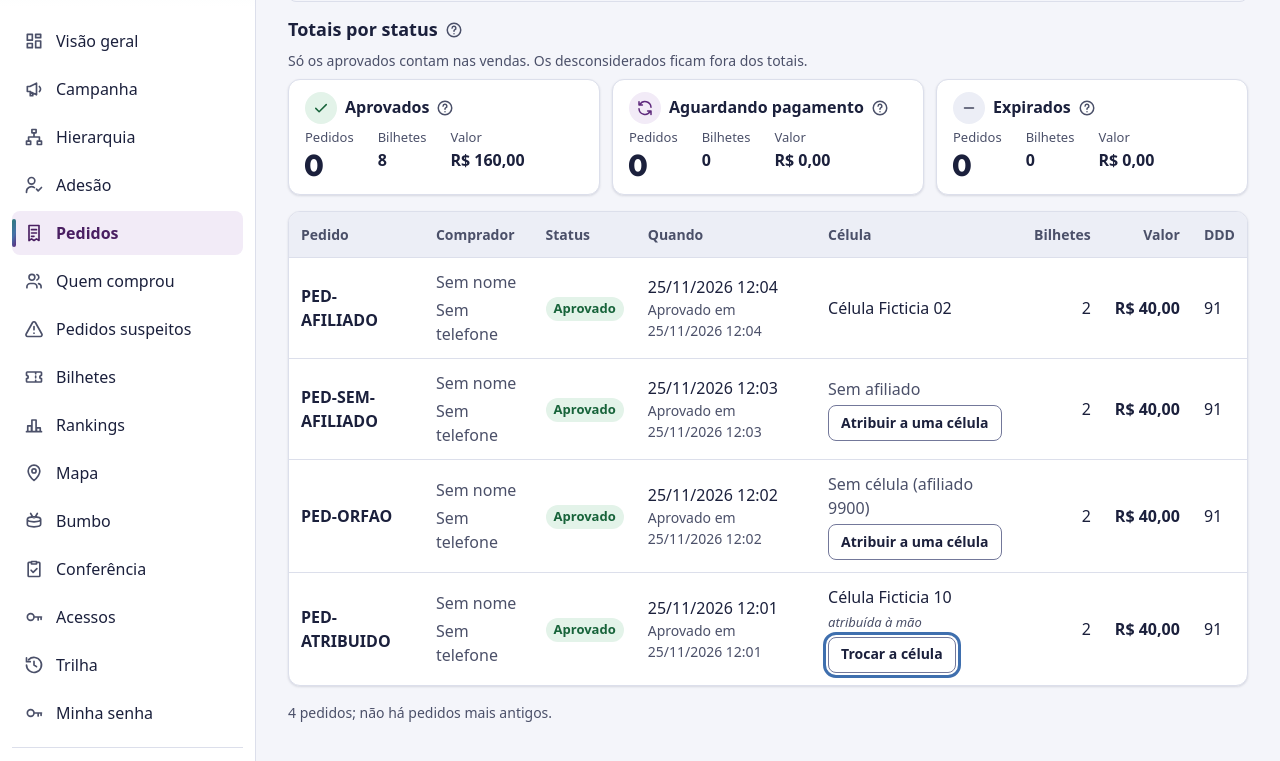
Test: RIFA-088: o diálogo › 'Remover atribuição' manda null e a venda volta a ficar sem célula
(page scrolled)
Click the button "Trocar a célula" at (892, 654), box [828,636,956,672]
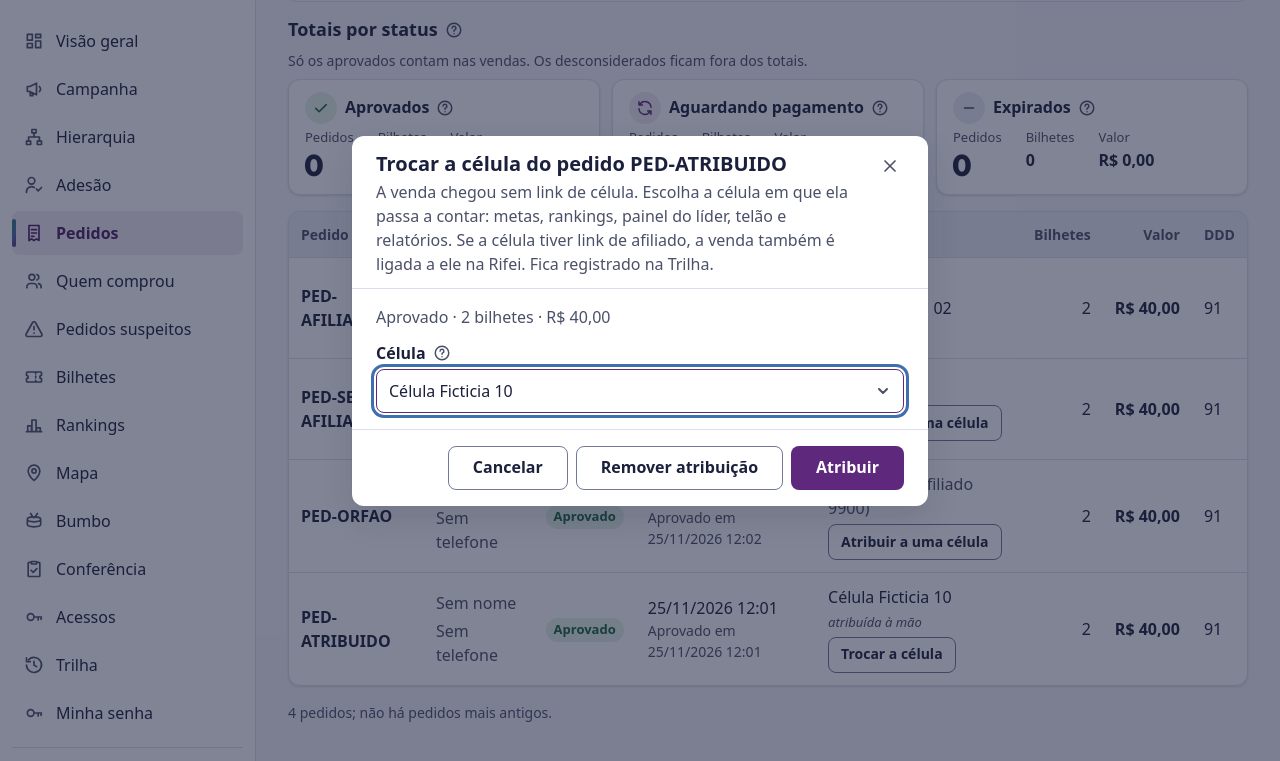
Expected: the dropdown labelled "Célula" shows "Célula Ficticia 10", [376,369,904,413]
Click the button "Remover atribuição" at (679, 468), box [576,446,783,490]
(page scrolled)
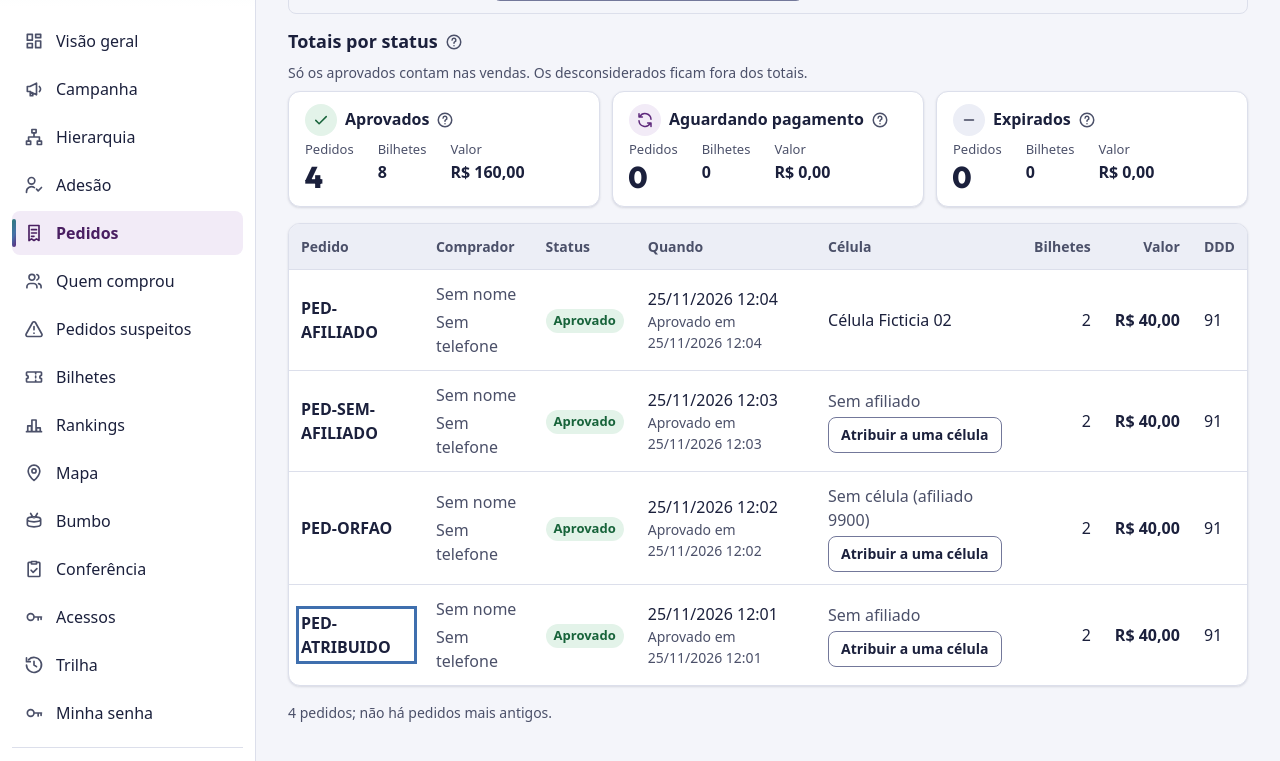
Expected: the row that starts with "PED-ATRIBUIDO" no longer shows "atribuída à mão", [289,584,1247,685]
Expected: the row that starts with "PED-ATRIBUIDO" shows "Sem afiliado", [828,604,920,626]
